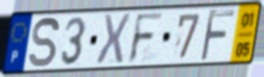3: (59, 15, 89, 68)
7: (177, 11, 201, 61)
F: (126, 11, 166, 66), (198, 8, 236, 63)
S: (28, 15, 62, 70)
X: (94, 12, 132, 67)
